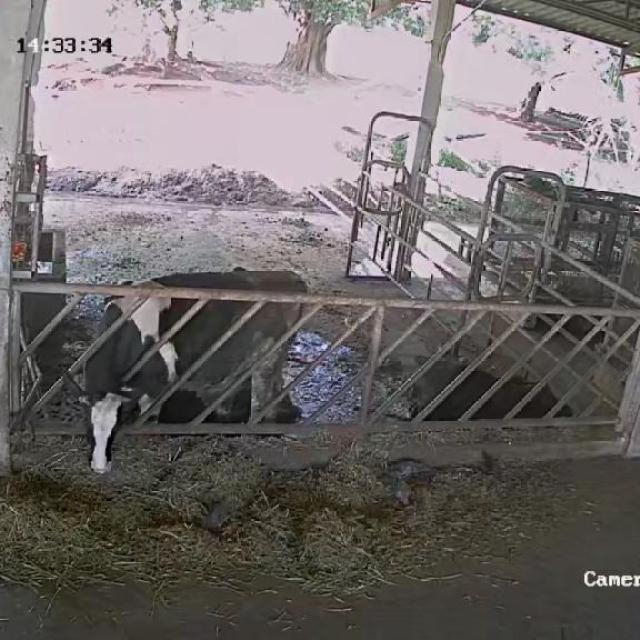feeding: (72, 264, 310, 479)
lying down: (397, 341, 576, 429)
